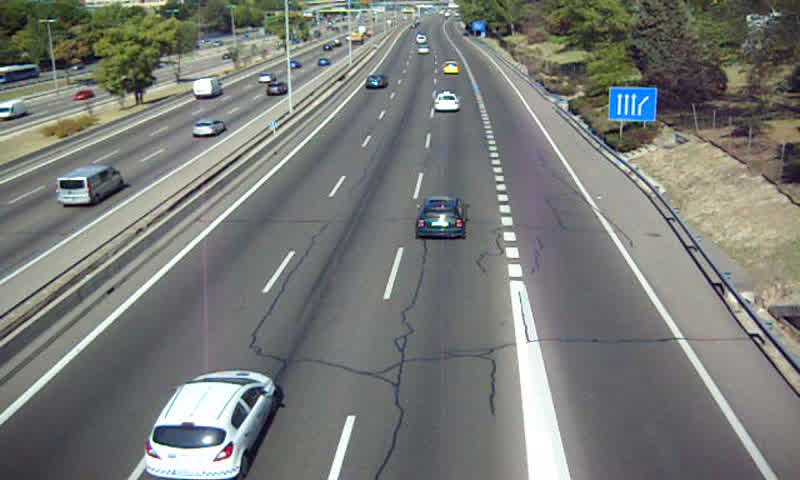car: (145, 371, 279, 480), (416, 198, 466, 238), (434, 91, 460, 110), (364, 75, 388, 89), (442, 60, 457, 73)
